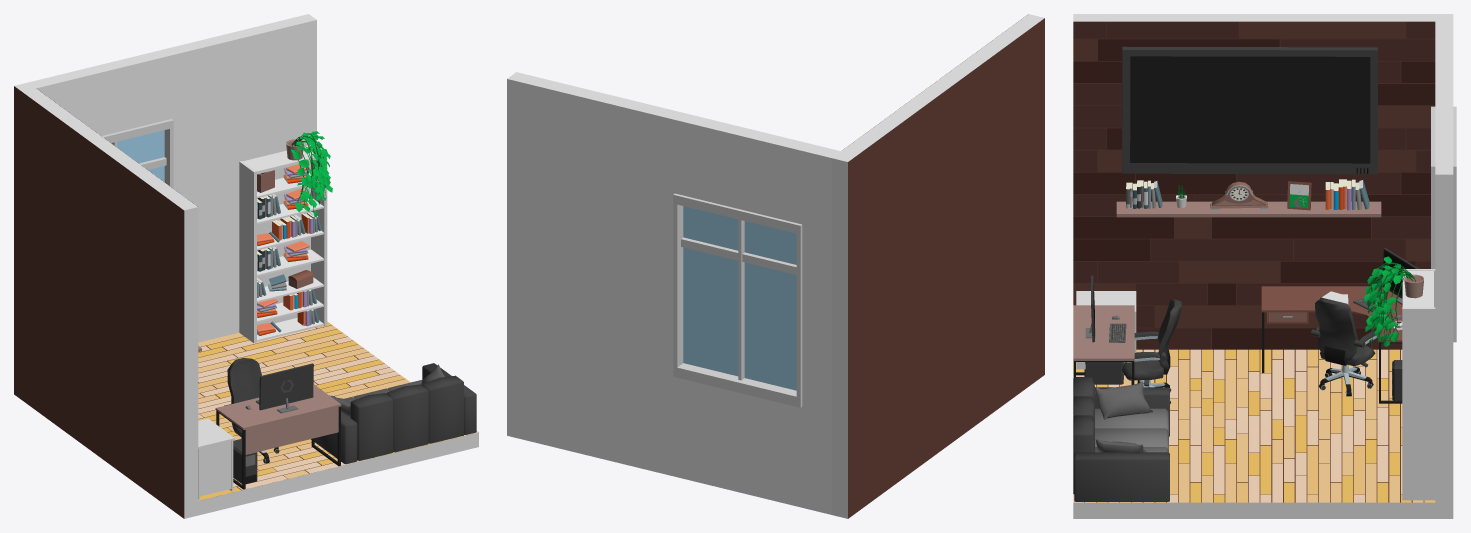
The model's file is room_2.glb.
3 views of the same model, side by side, from view 1: azimuth 30°, elevation 25°; view 2: azimuth 150°, elevation 25°; view 3: azimuth 270°, elevation 25° (orthographic). The views are drawn at different scales.
Parts seen in each view (by area): view 1: Walls_056.002, Walls_006.006, floor_011.001, shelf_053.001, sofa_006.001, Walls_006.009, Walls_056.001, office_table_017.005, window_019.001, shelf_037.001, low_poly_interior.005, electronics_031.005 (+4 smaller); view 2: Walls_056.002, Walls_006.006, window_019.001, Walls_006.008, Walls_006.007, Walls_006.009; view 3: floor_016.001, floor_011.001, electronics_027.002, sofa_006.001, Walls_056.001, Walls_006.006, Walls_056.002, shelf_053.001, office_table_031.001, office_chair_017.005, shelf_056.003, office_table_017.005 (+12 smaller).
Part boxes in pixels (box(x1,y1,x2,y2)): Walls_056.002: box(14, 82, 198, 518); Walls_006.006: box(162, 14, 316, 342); floor_011.001: box(198, 321, 478, 500); shelf_053.001: box(239, 145, 327, 343); sofa_006.001: box(311, 363, 476, 464); Walls_006.009: box(56, 50, 169, 135); Walls_056.001: box(198, 325, 478, 515); office_table_017.005: box(215, 384, 341, 489); window_019.001: box(102, 119, 173, 188); shelf_037.001: box(198, 418, 234, 499); low_poly_interior.005: box(286, 131, 332, 216); electronics_031.005: box(259, 363, 313, 413); Walls_056.002: box(831, 14, 1044, 518); Walls_006.006: box(507, 72, 686, 477); window_019.001: box(673, 193, 802, 407); Walls_006.008: box(677, 378, 799, 506); Walls_006.007: box(799, 143, 840, 514); Walls_006.009: box(677, 113, 808, 223); floor_016.001: box(1073, 21, 1435, 349); floor_011.001: box(1073, 349, 1435, 502); electronics_027.002: box(1122, 46, 1377, 174); sofa_006.001: box(1073, 377, 1169, 501); Walls_056.001: box(1073, 349, 1435, 518); Walls_006.006: box(1435, 94, 1453, 518); Walls_056.002: box(1073, 14, 1453, 349); shelf_053.001: box(1402, 269, 1435, 500); office_table_031.001: box(1261, 286, 1402, 403); office_chair_017.005: box(1311, 297, 1376, 396); shelf_056.003: box(1116, 201, 1381, 217); office_table_017.005: box(1073, 305, 1134, 384).
Size of the model in its own units: 4.2 by 4.2 by 4.24.
1 material, 1 textured.
